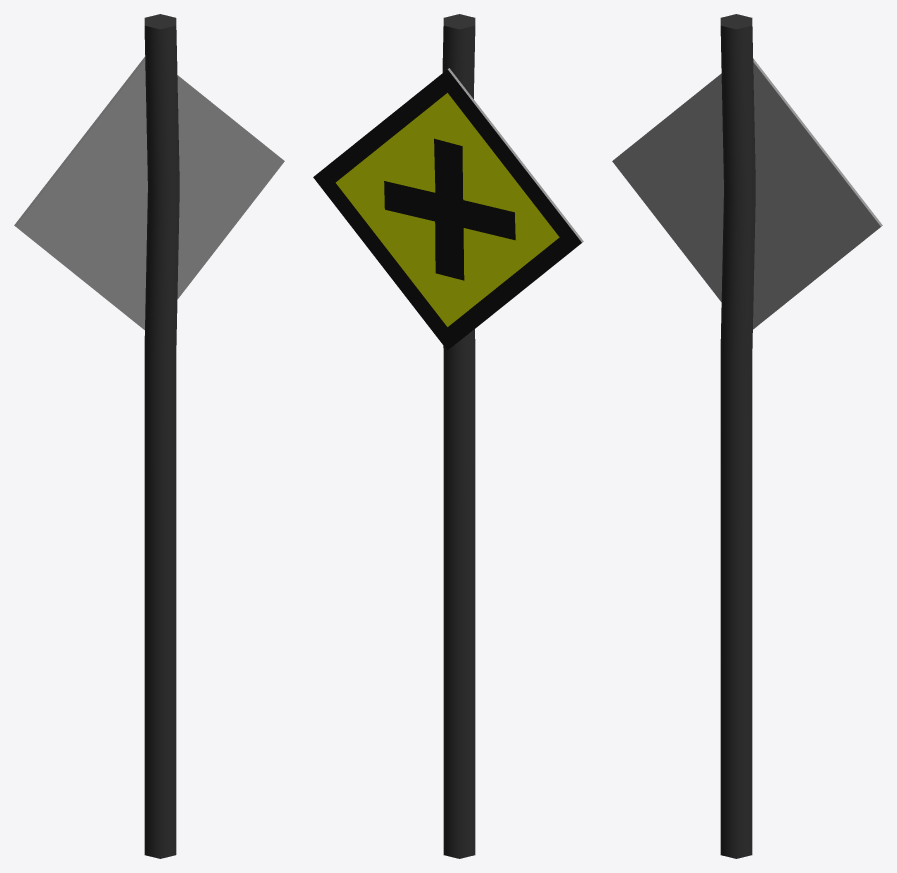
Rendered from Crossjunction road sign.FBX.
The picture shows the model from 3 angles, left to right: view 1: azimuth 30°, elevation 25°; view 2: azimuth 150°, elevation 25°; view 3: azimuth 330°, elevation 25°; orthographic projection.
Parts seen in each view (by area): view 1: Box187; view 2: Box187; view 3: Box187.
Boxes of the visible parts, x1,y1,x2,y2 form: Box187: (14,14,284,858); Box187: (313,14,583,858); Box187: (612,14,882,858).
Bounding box in the file's own units: 33.41 × 98.43 × 4.26.
